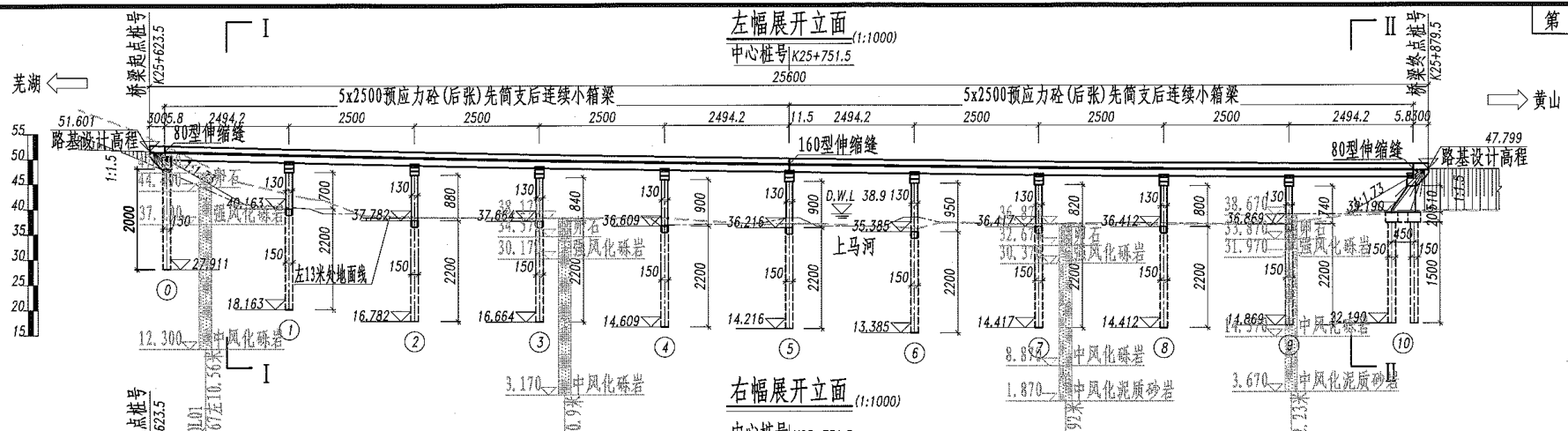A: (149, 69, 1424, 93)
B: (778, 71, 1415, 121), (152, 86, 796, 116)
C: (1326, 200, 1444, 360), (846, 167, 932, 367), (347, 159, 430, 357), (722, 166, 804, 364), (973, 168, 1054, 361), (479, 161, 556, 358), (604, 164, 680, 361), (1101, 169, 1178, 361), (233, 157, 304, 346), (1237, 170, 1304, 358)
D: (819, 182, 888, 222)
